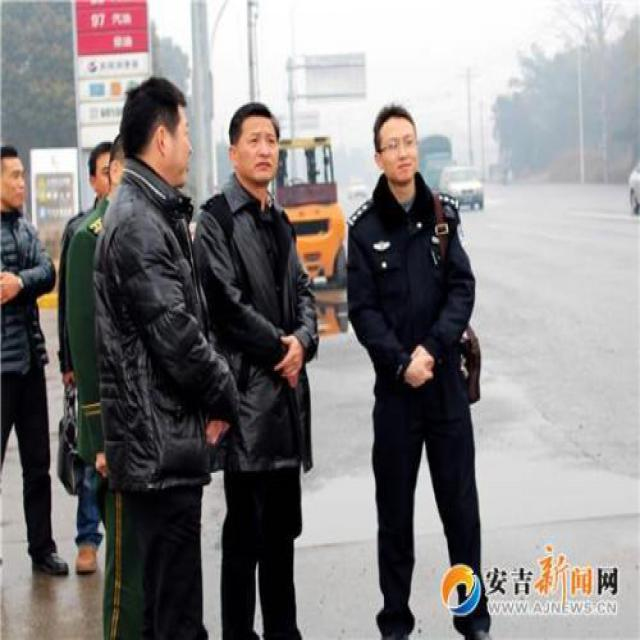head: (119, 75, 190, 192), (225, 95, 284, 192), (367, 96, 423, 190), (87, 141, 121, 205)
person: (336, 93, 500, 631), (193, 93, 340, 634), (87, 74, 225, 634), (3, 137, 81, 607)
